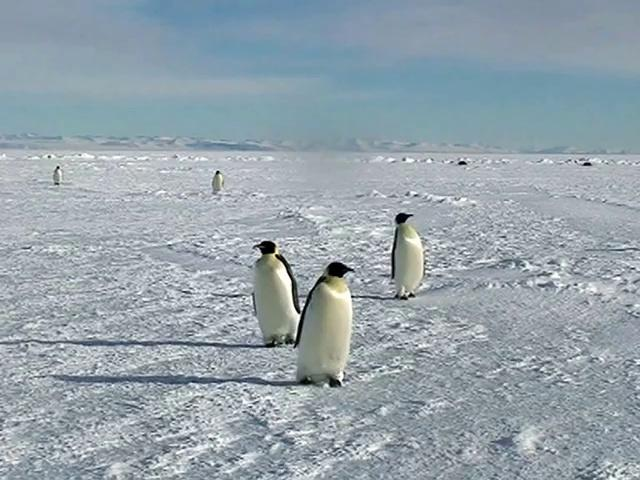animal: (392, 214, 426, 299)
